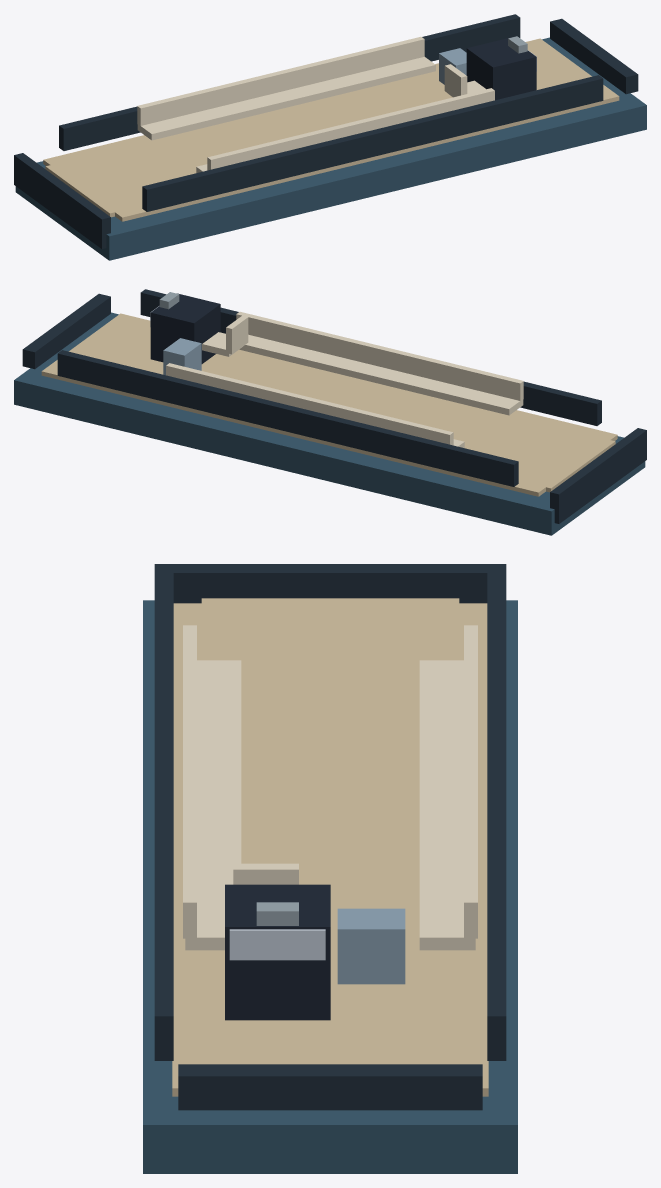
File: metaverse-hub-dive-boat.gltf
The picture shows the model from 3 angles, top to bottom: view 1: azimuth 30°, elevation 25°; view 2: azimuth 150°, elevation 25°; view 3: azimuth 270°, elevation 25°; orthographic projection. The views are drawn at different scales.
Size of the model in its own units: 10.69 by 1.64 by 3.2.
